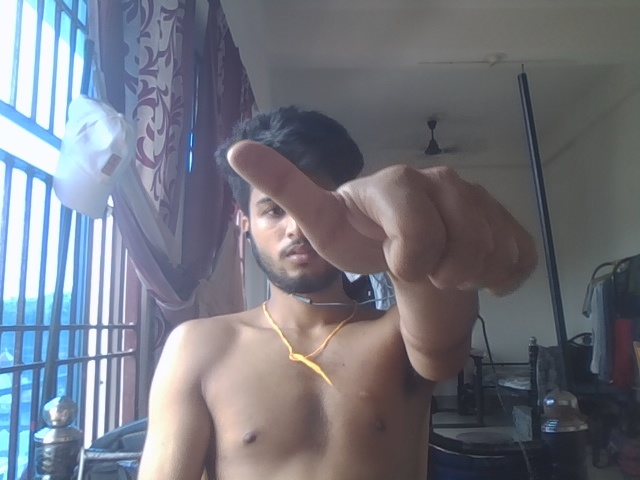Great: (216, 140, 562, 302)
